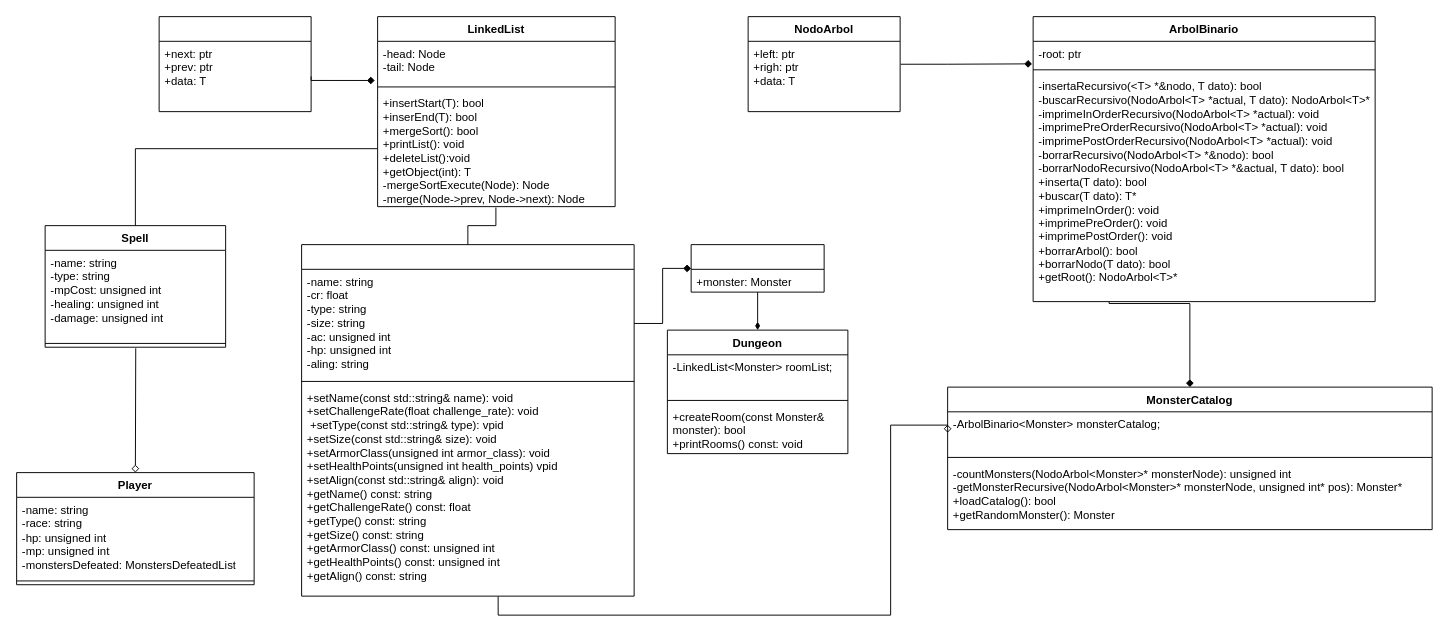
Image size: 1449x639. Some labels were removed from this diagram. The box of each missing label's shape, as (x1, y1, x2, y2) in pixels:
Monstruo: (301, 244, 634, 596)
Node: (158, 16, 311, 112)
Room: (690, 244, 824, 292)
